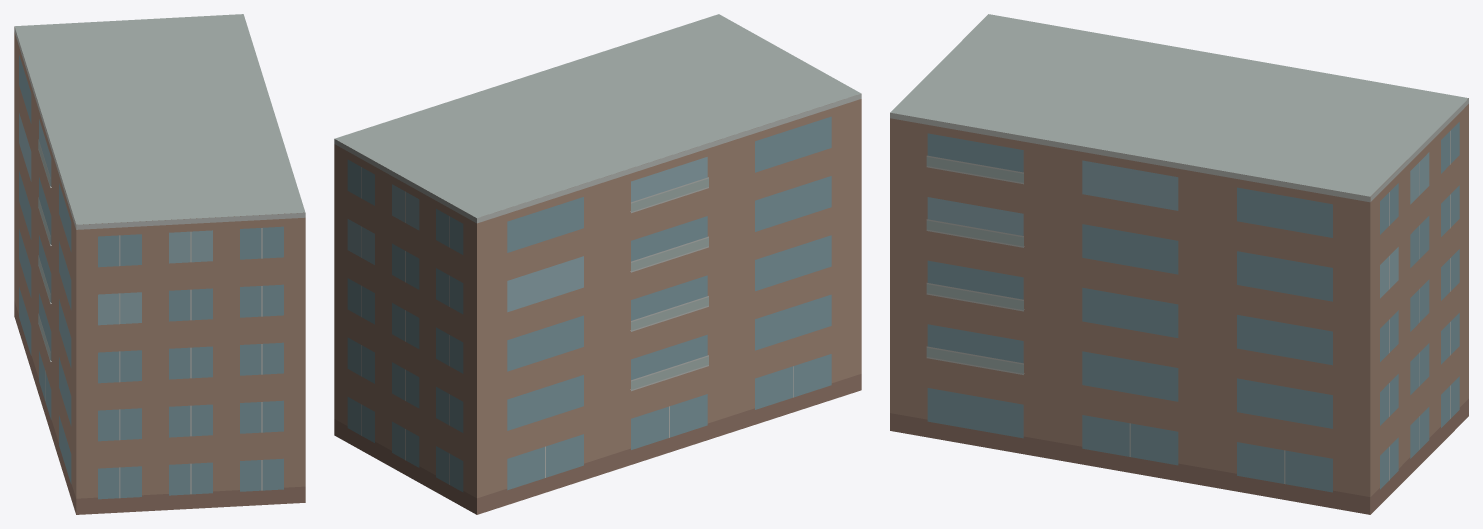
File: survey-upis-32527647.glb
The picture shows the model from 3 angles, left to right: view 1: azimuth 30°, elevation 25°; view 2: azimuth 150°, elevation 25°; view 3: azimuth 270°, elevation 25°; orthographic projection. The views are drawn at different scales.
Visible parts, largest first — view 1: survey-upis-32527647.tmp; view 2: survey-upis-32527647.tmp; view 3: survey-upis-32527647.tmp.
Boxes of the visible parts, box(x1,y1,x2,y2) form: survey-upis-32527647.tmp: box(14, 14, 305, 514); survey-upis-32527647.tmp: box(334, 14, 861, 514); survey-upis-32527647.tmp: box(890, 14, 1468, 514).
Size of the model in its own units: 17.13 by 13.9 by 22.93.
